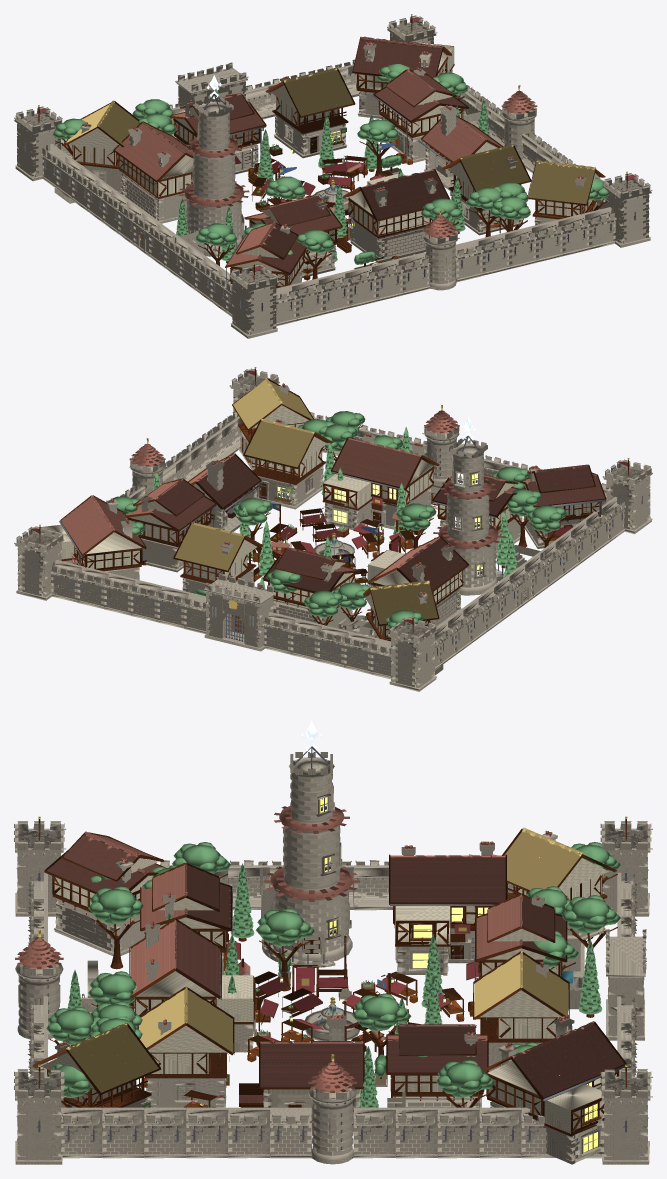
File: valcourt.glb
3 renders of one model, top to bottom at view 1: azimuth 30°, elevation 25°; view 2: azimuth 150°, elevation 25°; view 3: azimuth 270°, elevation 25°, orthographic. The views are drawn at different scales.
Visible parts, largest first — view 1: stone, tile, timber, leaf, plaster, thatch, iron, wood, red; view 2: stone, tile, timber, leaf, plaster, thatch, iron, red, wood, flame; view 3: stone, tile, timber, leaf, plaster, thatch, red, iron, wood, flame.
Boxes of the visible parts, left/top/right/bottom form: stone: left=14, top=15, right=652, bottom=338; tile: left=84, top=36, right=583, bottom=272; timber: left=38, top=16, right=627, bottom=288; leaf: left=53, top=64, right=609, bottom=264; plaster: left=69, top=42, right=600, bottom=286; thatch: left=66, top=67, right=595, bottom=204; iron: left=23, top=55, right=635, bottom=313; wood: left=248, top=137, right=500, bottom=280; red: left=39, top=18, right=637, bottom=270; stone: left=14, top=368, right=652, bottom=691; tile: left=61, top=383, right=604, bottom=595; timber: left=39, top=369, right=628, bottom=641; leaf: left=112, top=411, right=566, bottom=631; plaster: left=40, top=405, right=599, bottom=638; thatch: left=175, top=377, right=437, bottom=624; iron: left=30, top=436, right=642, bottom=666; red: left=30, top=371, right=627, bottom=624; wood: left=227, top=456, right=572, bottom=634; flame: left=75, top=473, right=482, bottom=575; stone: left=14, top=752, right=652, bottom=1164; tile: left=15, top=806, right=624, bottom=1103; timber: left=32, top=819, right=626, bottom=1136; leaf: left=46, top=842, right=620, bottom=1107; plaster: left=41, top=858, right=616, bottom=1133; thatch: left=66, top=827, right=582, bottom=1105; red: left=39, top=823, right=626, bottom=1103; iron: left=16, top=746, right=648, bottom=1152; wood: left=129, top=941, right=480, bottom=1107; flame: left=82, top=797, right=597, bottom=1152.
Bounding box in the file's own units: 61.77 × 25.32 × 60.99.
15 materials, 7 textured.
